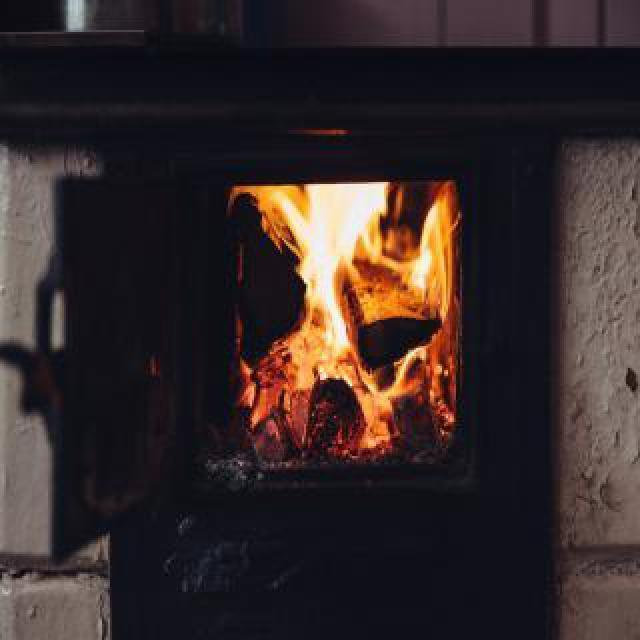Fire: (262, 158, 464, 386)
